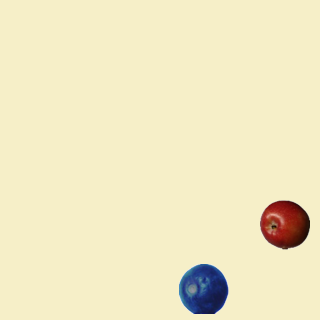Apple Braeburn: (259, 199, 309, 249)
Huckleberry: (178, 263, 228, 313)
